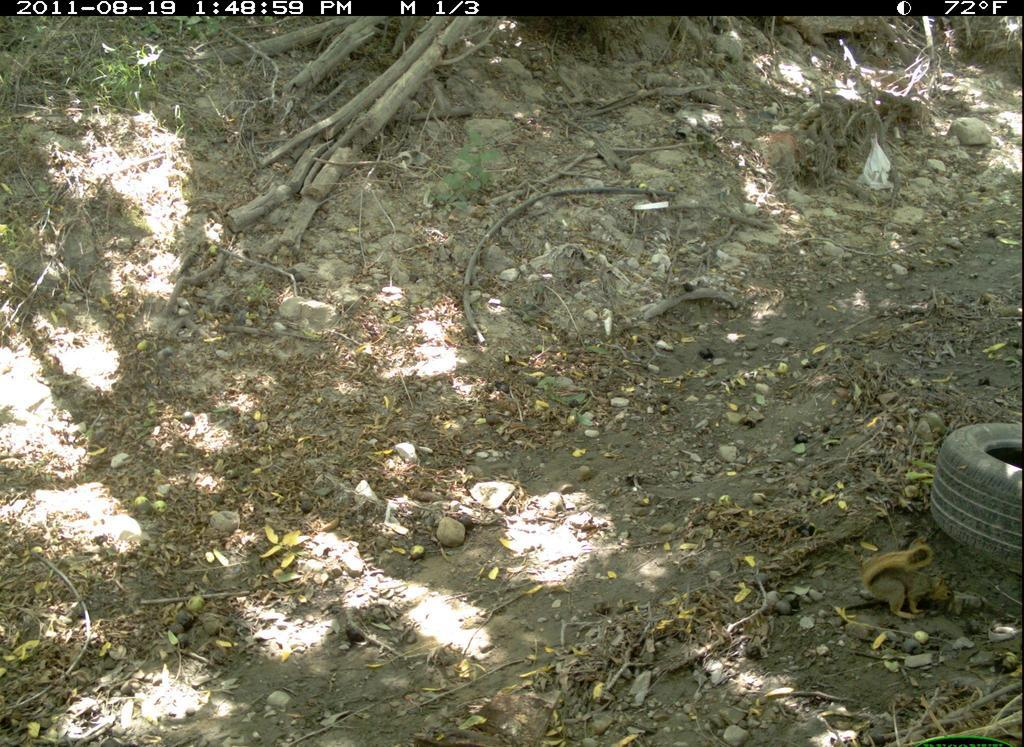squirrel: (856, 533, 968, 632)
